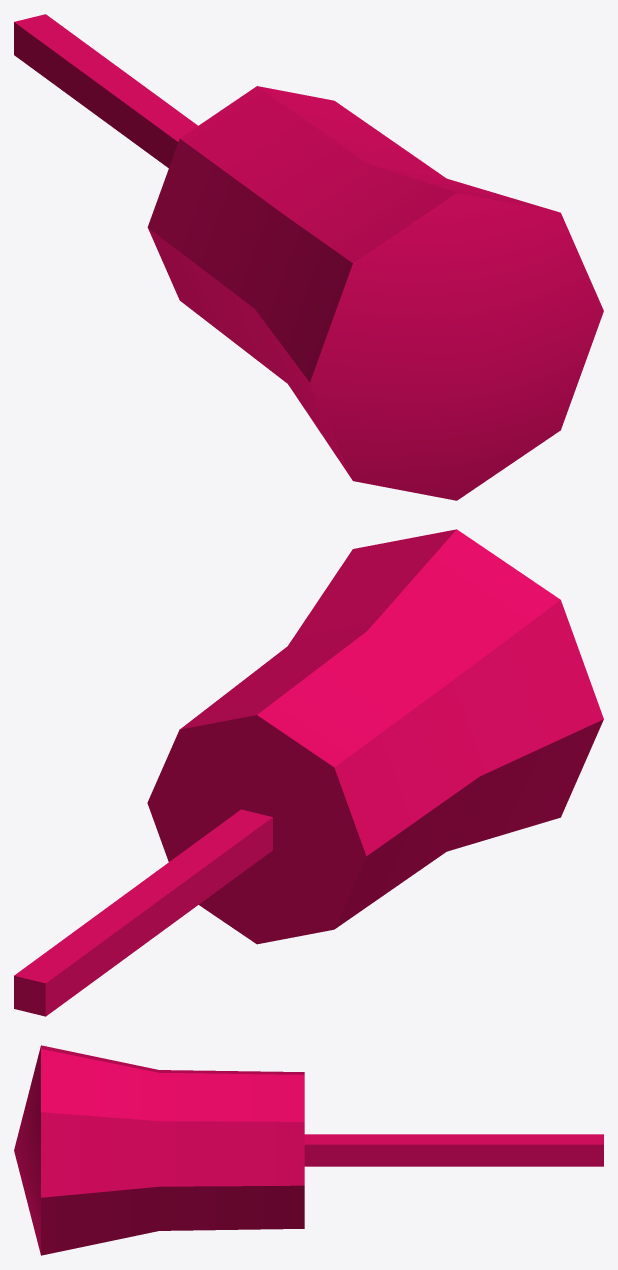
The model's file is Pin_01_Lod0.fbx.
3 renders of one model, top to bottom at view 1: azimuth 30°, elevation 25°; view 2: azimuth 150°, elevation 25°; view 3: azimuth 270°, elevation 25°, orthographic. The views are drawn at different scales.
Visible parts, largest first — view 1: Pin_01_Lod0; view 2: Pin_01_Lod0; view 3: Pin_01_Lod0.
Part boxes in pixels (x1,y1,x2,y2): Pin_01_Lod0: (14, 14, 603, 500); Pin_01_Lod0: (14, 529, 603, 1016); Pin_01_Lod0: (14, 1045, 603, 1255).
Bounding box in the file's own units: 1.75 × 1.75 × 4.62.
